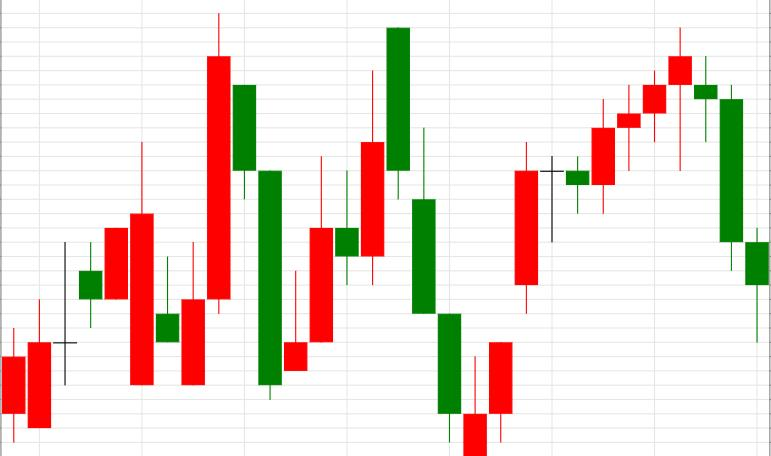three_black_crows_fall: (284, 28, 461, 442)
three_white_soldiers_rise: (386, 28, 538, 456)
